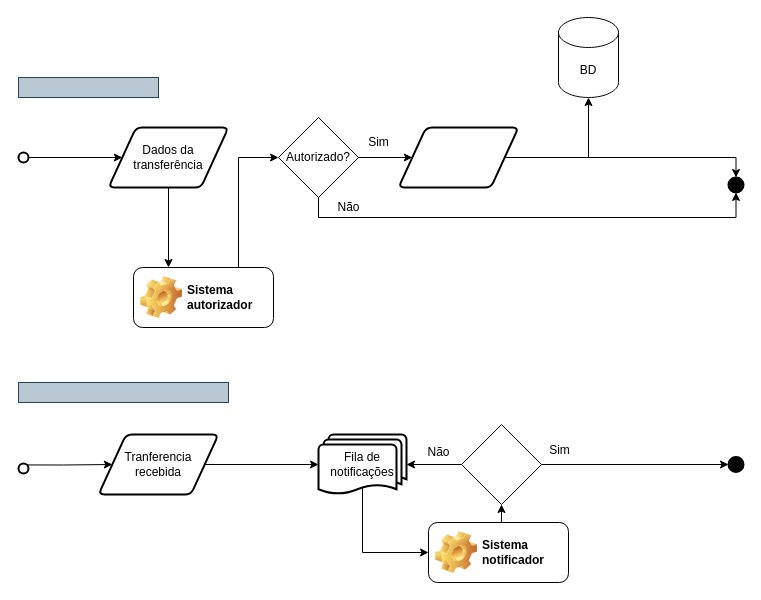
Some shapes in this 761 by 600 pixel diagram are drawn without their labels. Here are the shapes that lost their labels. From the top down, the centre of each, then its label:
pixel 88 87: Envio de transferencia
pixel 458 157: Tranferência efetuada
pixel 123 392: Notificação de transferência recebida
pixel 501 464: Notificado?
